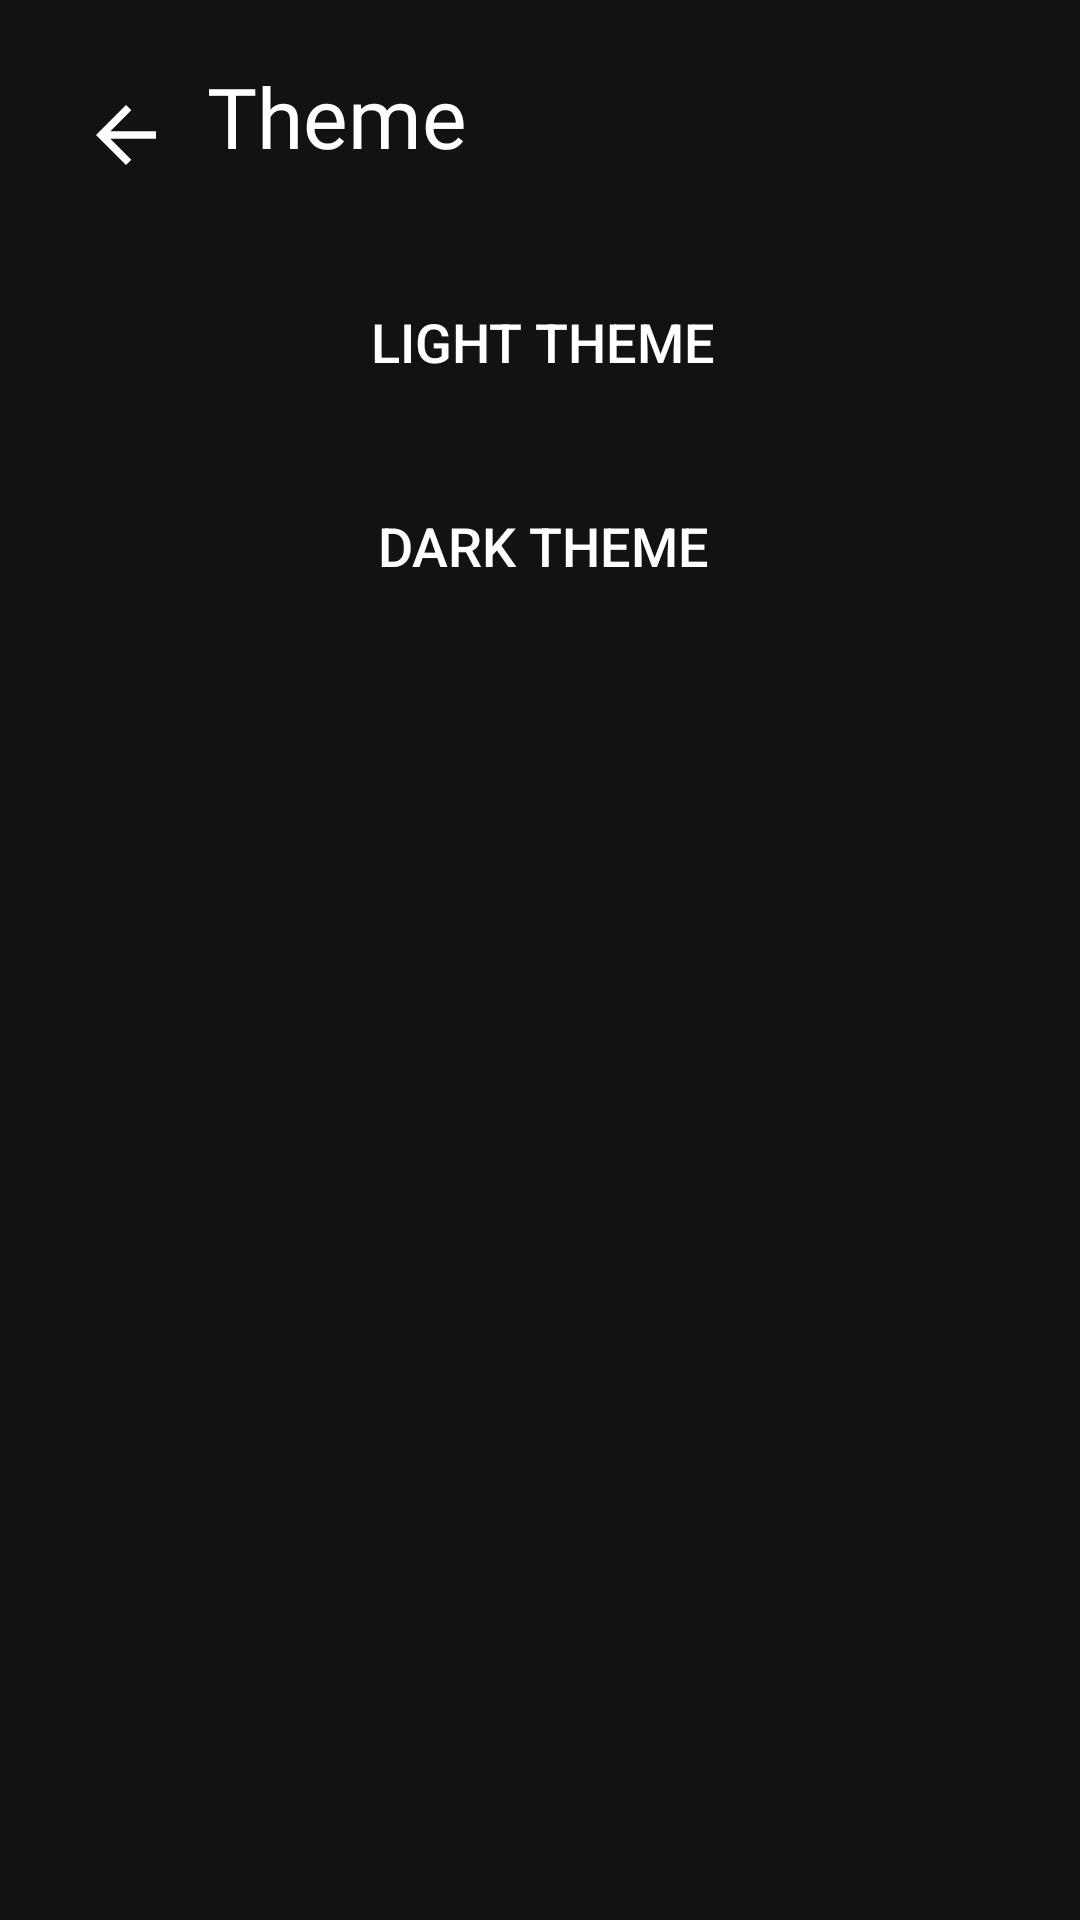

Named icons in this screenshot (1080x1920) and their centers, point (x, y):
back: point (126, 135)
